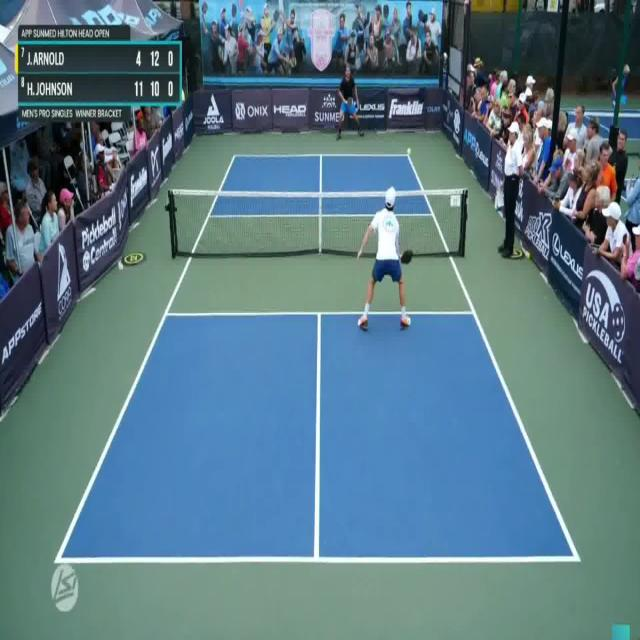Court: (55, 155, 578, 560)
ball: (405, 142, 415, 161)
